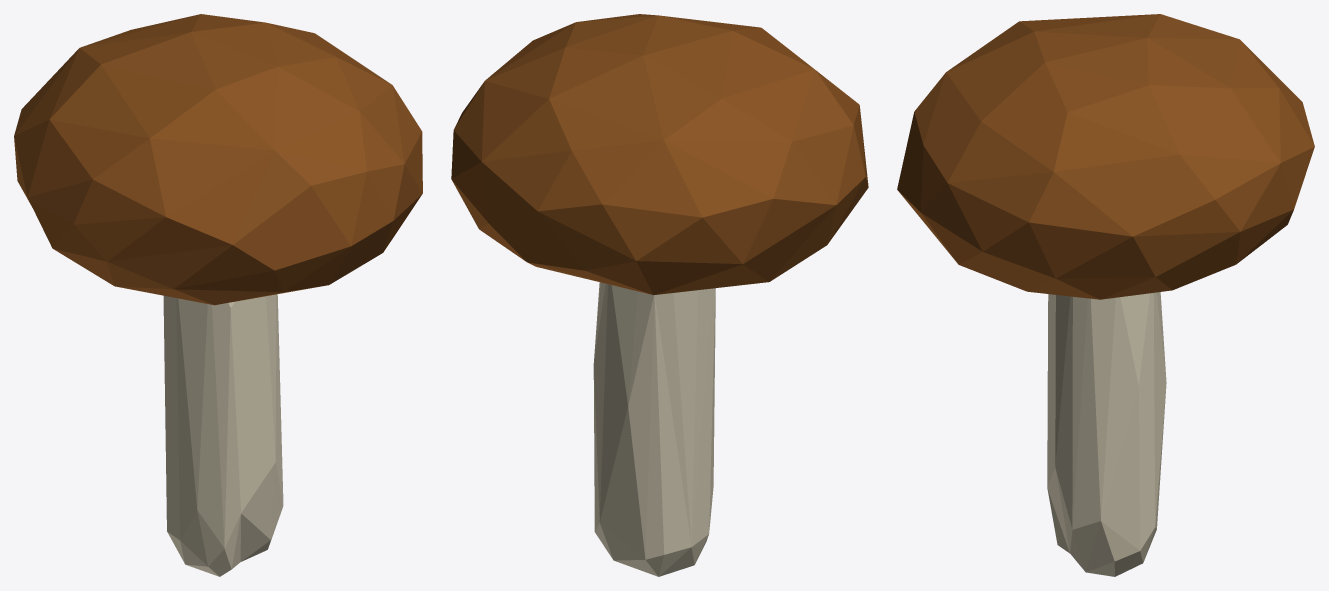
The model's file is Mushroom.fbx.
The picture shows the model from 3 angles, left to right: view 1: azimuth 30°, elevation 25°; view 2: azimuth 150°, elevation 25°; view 3: azimuth 270°, elevation 25°; orthographic projection.
Visible parts, largest first — view 1: MushroomCap, MushroomLeg; view 2: MushroomCap, MushroomLeg; view 3: MushroomCap, MushroomLeg.
Boxes of the visible parts, bbox=[...] form: MushroomCap: bbox=[14, 14, 422, 305]; MushroomLeg: bbox=[163, 294, 283, 576]; MushroomCap: bbox=[451, 14, 868, 294]; MushroomLeg: bbox=[593, 282, 715, 576]; MushroomCap: bbox=[897, 14, 1314, 299]; MushroomLeg: bbox=[1047, 292, 1166, 576].
Size of the model in its own units: 675 by 935 by 669.
